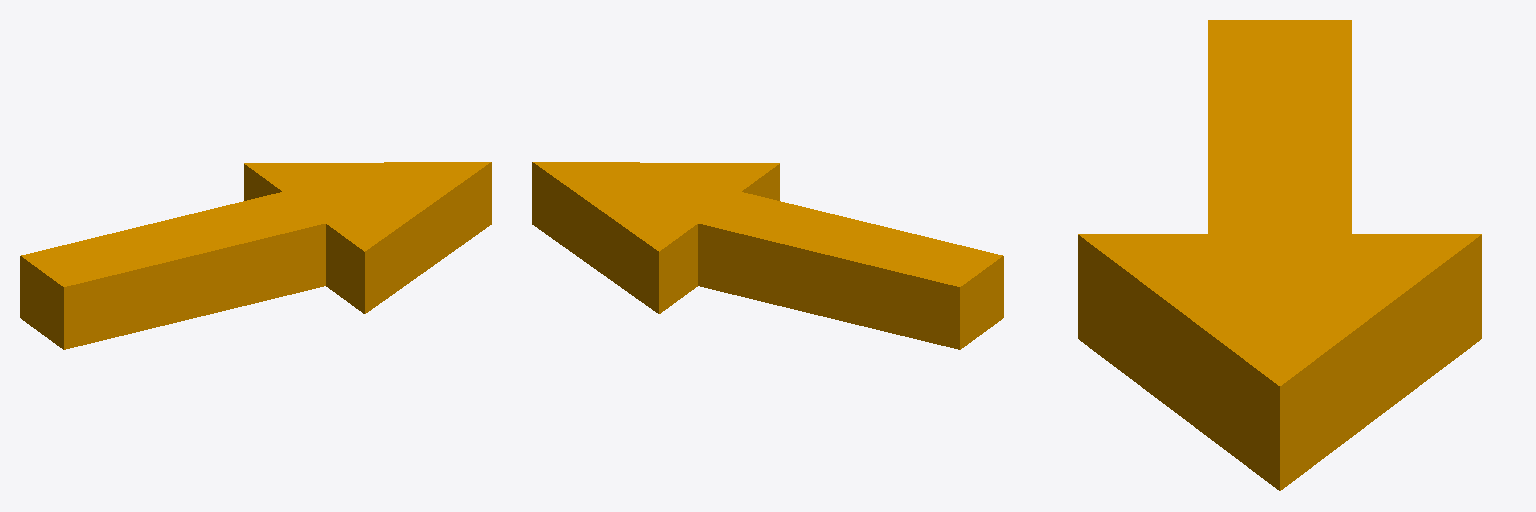
URDF robot description (link_geometry_mesh):
<?xml version="1.0"?>
<robot name="link_geometry_mesh">
    <link name="base_link">
        <visual>
            <geometry>
                <mesh filename="package://urdf_basics/meshes/demo_arrow.stl" scale="1 1 1"/>
            </geometry>
        </visual>
    </link>
</robot>

--- Render facts (derived) ---
3 views of the same robot in one strip: view 1: azimuth 30°, elevation 25°; view 2: azimuth 150°, elevation 25°; view 3: azimuth 270°, elevation 25° (orthographic).
Robot: link_geometry_mesh — 1 links, 0 joints (none); root link base_link; default pose: all joints at 0.
Visible links, largest first — view 1: base_link; view 2: base_link; view 3: base_link.
Link boxes in pixels (x1=…): base_link: x1=20, y1=162, x2=491, y2=349; base_link: x1=532, y1=162, x2=1003, y2=349; base_link: x1=1078, y1=20, x2=1481, y2=490.
Size in the robot's own frame: 0.6 by 0.28 by 0.08 metres.
Meshes: 1 distinct files referenced, 1 mesh visuals loaded (1 ASCII STL).
